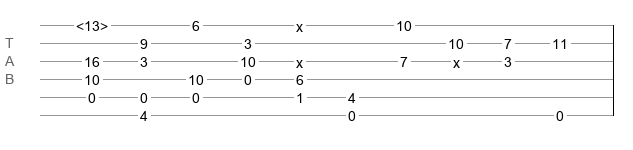0: (88, 90, 96, 100), (140, 90, 148, 100), (192, 90, 200, 100), (244, 72, 252, 82), (348, 108, 356, 118), (556, 108, 564, 118)
1: (296, 90, 304, 100)
10: (84, 72, 100, 82), (188, 72, 204, 82), (240, 54, 256, 64), (396, 18, 412, 28), (448, 36, 464, 46)
11: (552, 36, 568, 46)
16: (84, 54, 100, 64)
3: (140, 54, 148, 64), (244, 36, 252, 46), (504, 54, 512, 64)
4: (140, 108, 148, 118), (348, 90, 356, 100)
6: (192, 18, 200, 28), (296, 72, 304, 82)
7: (400, 54, 408, 64), (504, 36, 512, 46)
9: (140, 36, 148, 46)
harmonic: (76, 18, 108, 28)
x: (296, 19, 303, 27), (296, 55, 303, 63), (453, 55, 460, 63)
